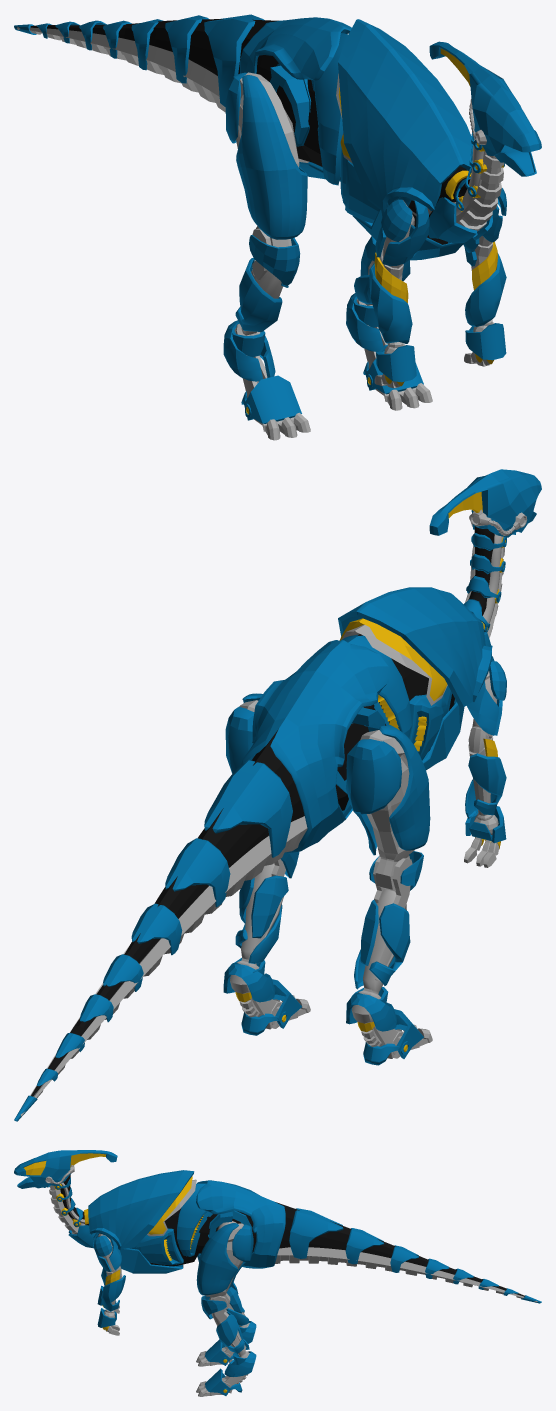
Rendered from Parasaur.fbx.
The picture shows the model from 3 angles, top to bottom: view 1: azimuth 30°, elevation 25°; view 2: azimuth 150°, elevation 25°; view 3: azimuth 270°, elevation 25°; orthographic projection. The views are drawn at different scales.
Visible parts, largest first — view 1: polySurface56, polySurface138, polySurface59, pasted__polySurface19, polySurface149, polySurface85, polySurface51, pCylinder29, polySurface50, polySurface84, polySurface139, pCube10 (+12 smaller); view 2: polySurface138, polySurface59, polySurface56, polySurface85, pCube10, pCylinder29, pasted__polySurface19, polySurface149, pCube17, polySurface139, polySurface84, polySurface51 (+8 smaller); view 3: polySurface138, polySurface56, polySurface59, polySurface85, pCylinder29, pasted__polySurface19, pCube10, polySurface84, polySurface149, polySurface79, pCube16, pCube17 (+8 smaller).
Part boxes in pixels (x1,y1,x2,y2): polySurface56: (338,19,473,212); polySurface138: (225,72,410,335); polySurface59: (240,17,351,181); pasted__polySurface19: (429,41,541,155); polySurface149: (241,359,432,440); polySurface85: (30,19,466,244); polySurface51: (369,253,506,343); pCylinder29: (17,26,309,162); polySurface50: (375,188,506,266); polySurface84: (311,33,347,185); polySurface139: (223,293,387,381); pCube10: (204,14,264,106); polySurface138: (225,693,430,999); polySurface59: (241,640,388,853); polySurface56: (338,587,491,706); polySurface85: (31,634,454,1096); pCube10: (204,760,292,857); pCylinder29: (21,816,307,1117); pasted__polySurface19: (429,469,541,537); polySurface149: (241,979,432,1065); pCube17: (165,838,230,907); polySurface139: (223,963,397,1031); polySurface84: (342,634,411,738); polySurface51: (465,753,506,818); polySurface138: (196,1223,253,1358); polySurface56: (88,1170,194,1249); polySurface59: (196,1180,285,1268); polySurface85: (85,1202,524,1296); pCylinder29: (275,1247,537,1302); pasted__polySurface19: (14,1150,117,1187); pCube10: (289,1208,343,1258); polySurface84: (177,1183,212,1256); polySurface149: (196,1339,242,1396); polySurface79: (129,1228,183,1265); pCube16: (120,1248,183,1273); pCube17: (345,1228,383,1264).
Size of the model in its own units: 200 by 492 by 1038.
